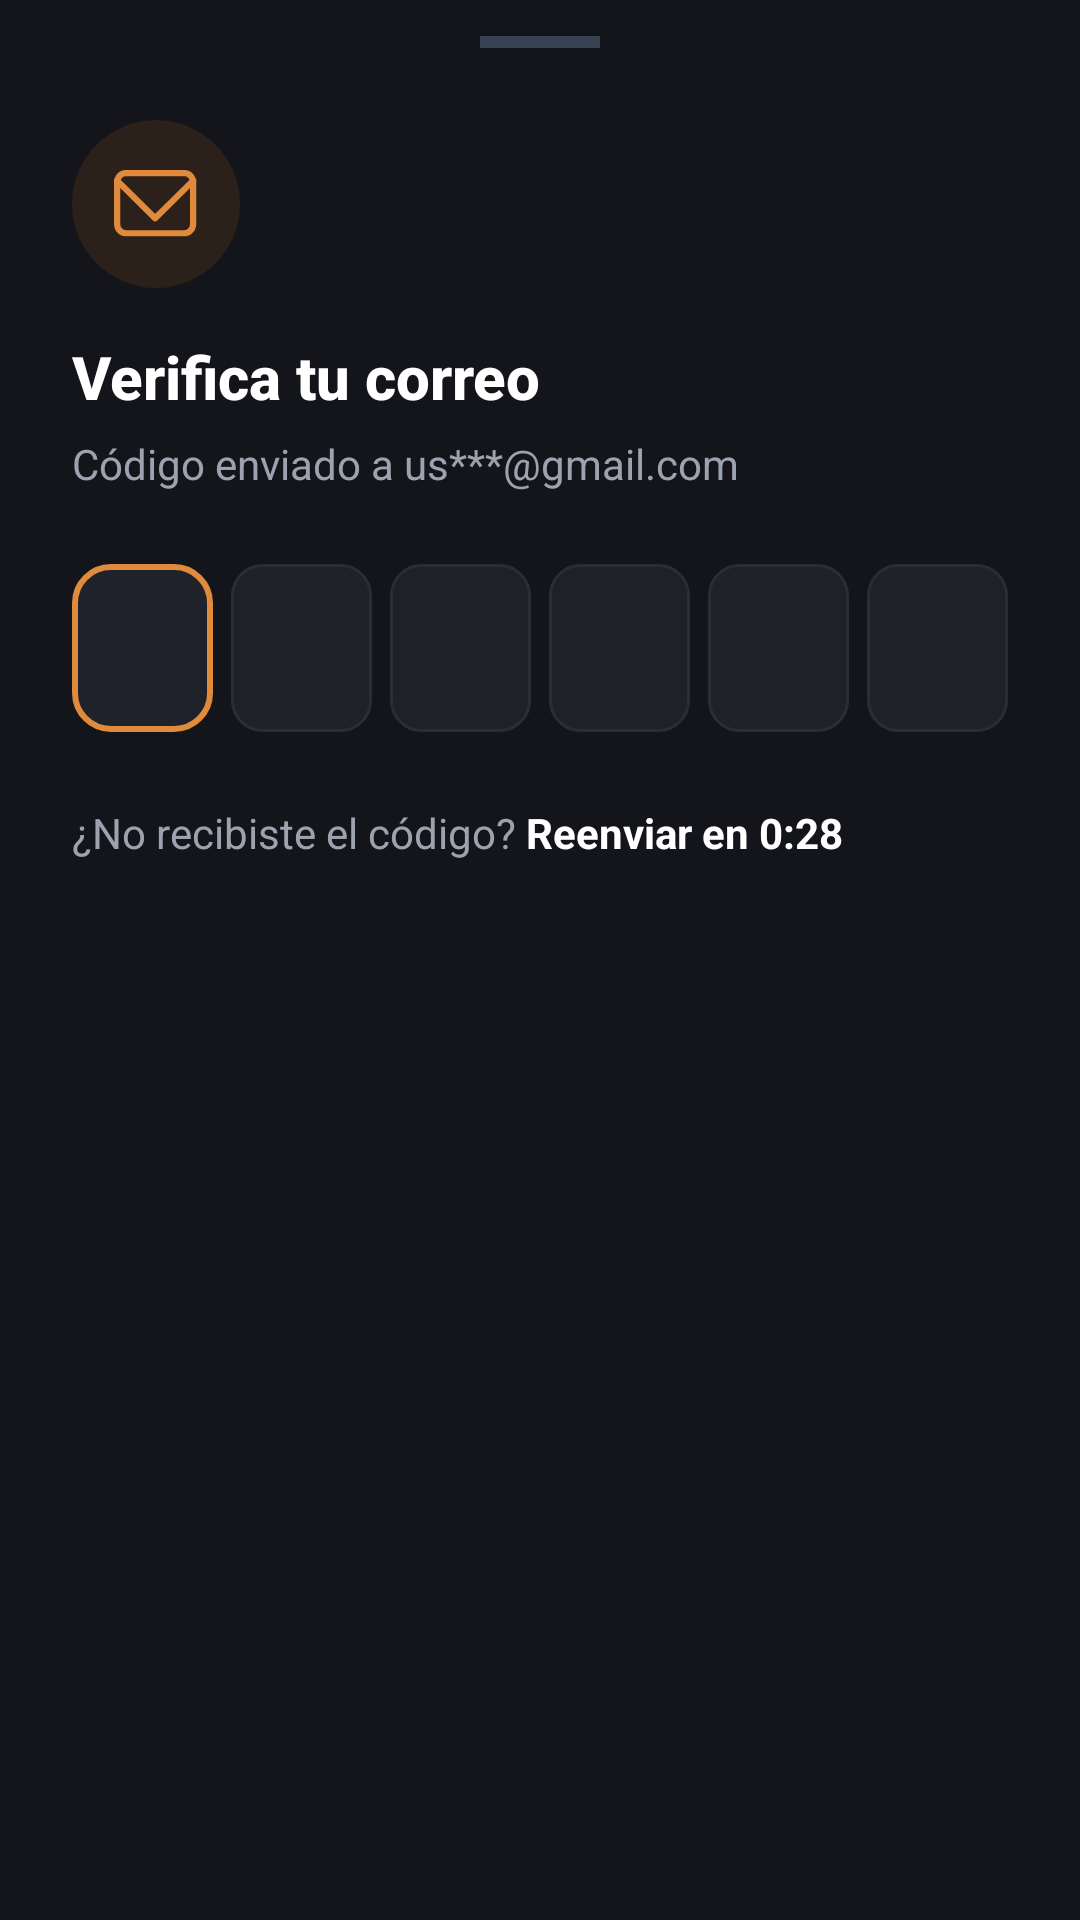

Icons on this 1080×1920 Android screen, each with its box as (left=x1, top=y1, right=x2, bottom=y2):
Icono de correo: (left=72, top=120, right=240, bottom=288)
